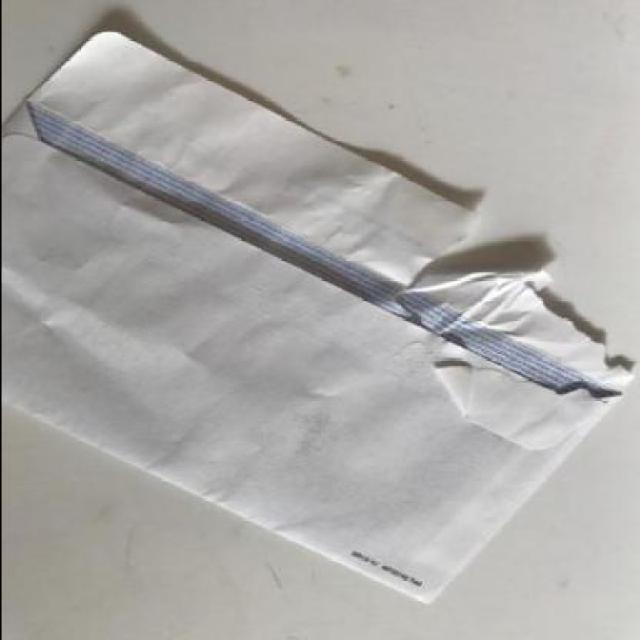PAPER: (2, 32, 633, 605)
